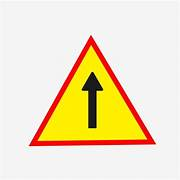forward: (26, 35, 157, 146)
